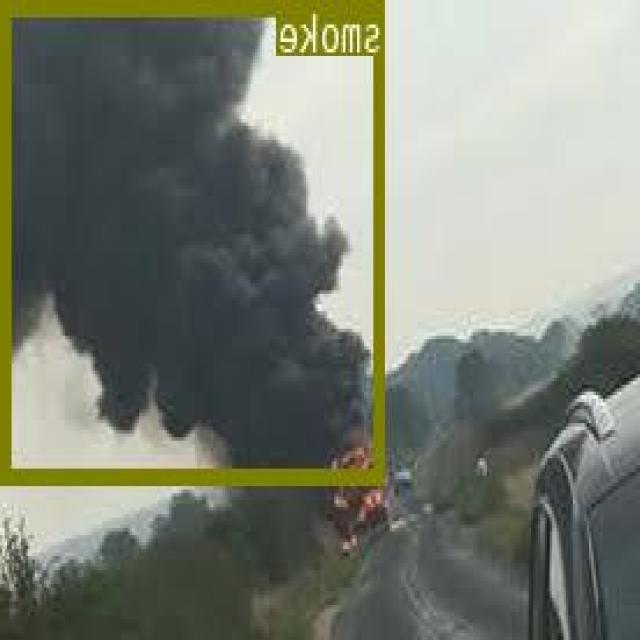smoke: (5, 0, 387, 479)
